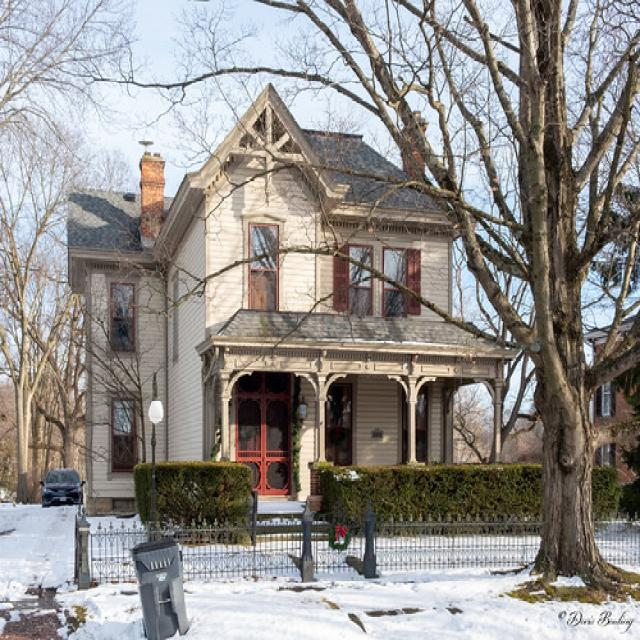building: (63, 80, 516, 538)
